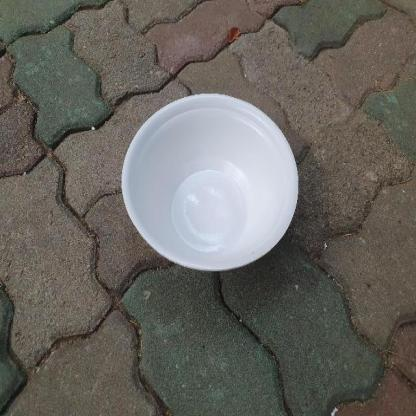Glass Cup: (122, 93, 300, 273), (122, 93, 299, 271)
